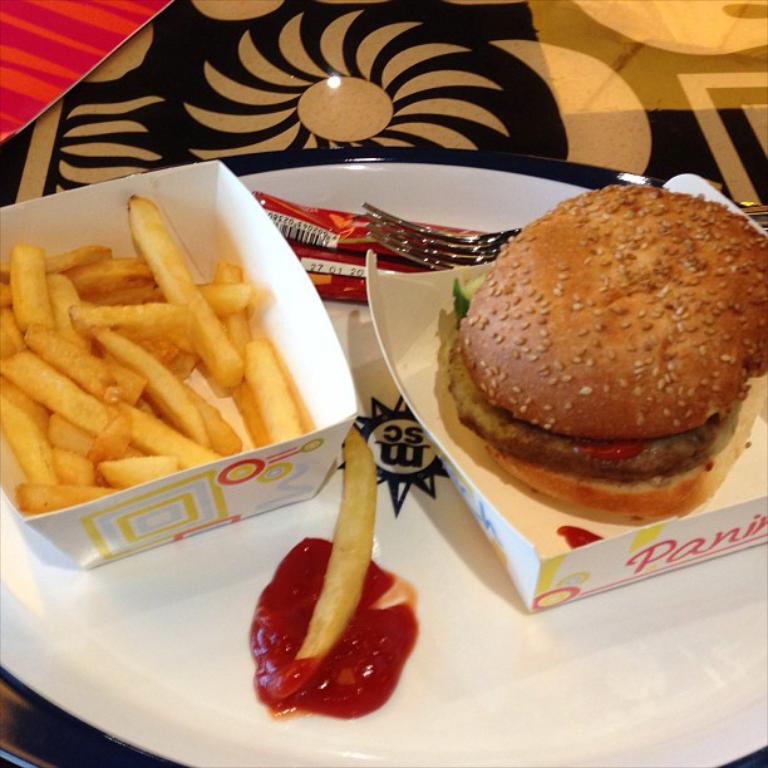French fries: (0, 186, 328, 522), (268, 426, 373, 695)
